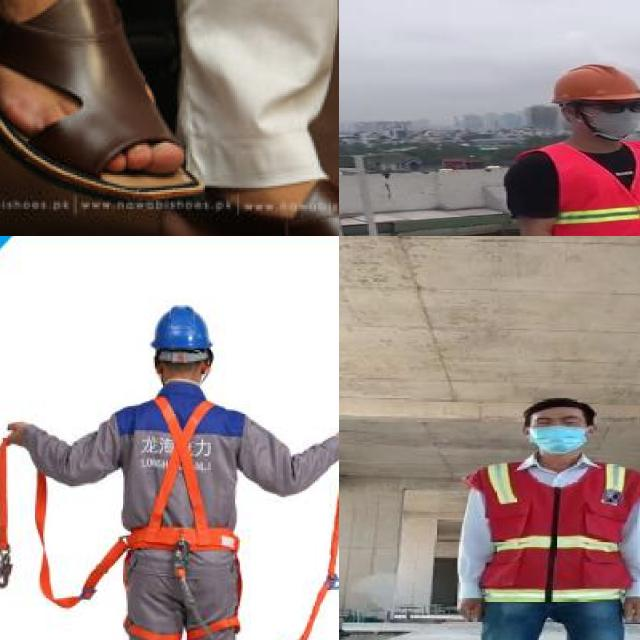Harness: (116, 394, 241, 640)
Sandals: (0, 0, 206, 198)
face_mask: (581, 93, 640, 135), (529, 412, 588, 452)
glasses: (585, 97, 640, 117)
hand_noglove: (448, 590, 488, 626), (616, 588, 640, 627)
head_helmet: (545, 62, 640, 104), (519, 389, 598, 418)
person: (438, 396, 640, 640), (496, 60, 640, 236)
vest: (461, 453, 640, 606), (521, 140, 640, 236)
